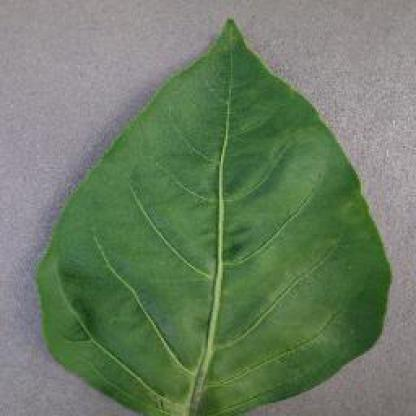good leaf: (34, 3, 392, 414)
